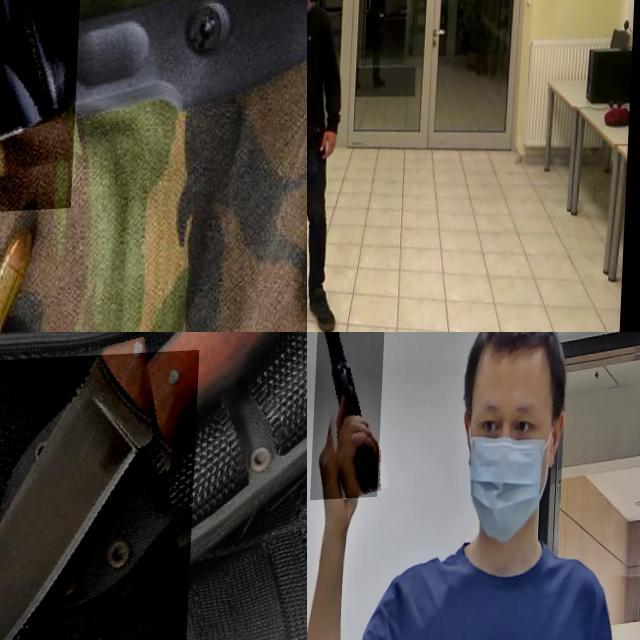-: (0, 353, 202, 640), (0, 0, 171, 226)
gun-knife-thesis - v11 Yolov5 augmented: (314, 332, 388, 503), (307, 104, 329, 152)
